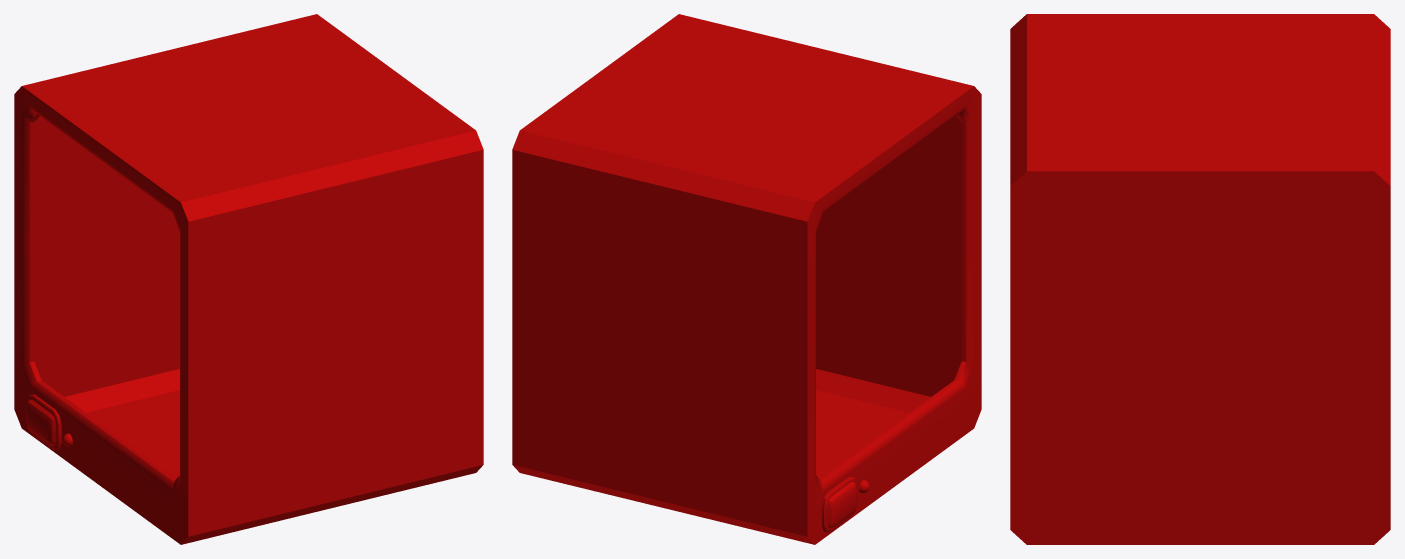
Rendered from ScrennBody.fbx.
The picture shows the model from 3 angles, left to right: view 1: azimuth 30°, elevation 25°; view 2: azimuth 150°, elevation 25°; view 3: azimuth 270°, elevation 25°; orthographic projection. The views are drawn at different scales.
Parts seen in each view (by area): view 1: SmallScreen_low; view 2: SmallScreen_low; view 3: SmallScreen_low.
Part boxes in pixels (bbox=[...]): SmallScreen_low: bbox=[14, 14, 483, 544]; SmallScreen_low: bbox=[512, 14, 981, 544]; SmallScreen_low: bbox=[1010, 14, 1390, 544].
Bounding box in the file's own units: 73.65 × 79.43 × 73.25.
